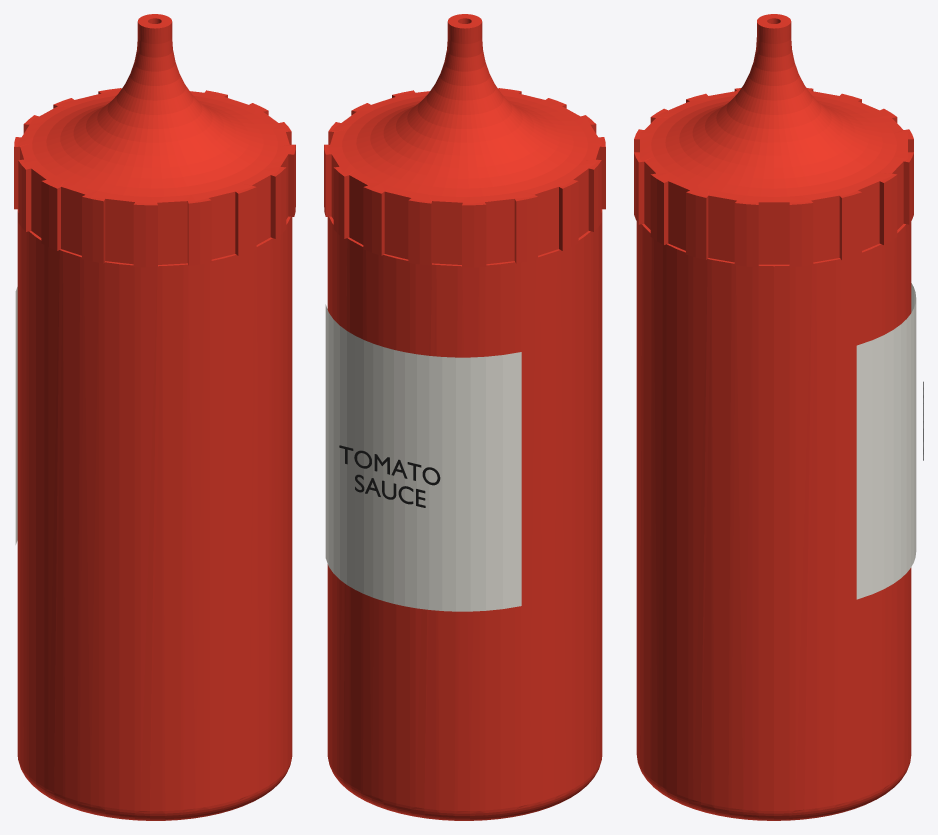
The model's file is TomatoSauceBottle.dae.
3 views of the same model, side by side, from view 1: azimuth 30°, elevation 25°; view 2: azimuth 150°, elevation 25°; view 3: azimuth 270°, elevation 25° (orthographic).
Visible parts, largest first — view 1: TomatoSauceBottle, TomatoSauceBottle_label_panel; view 2: TomatoSauceBottle, TomatoSauceBottle_label_panel, TomatoSauceBottle_label_text; view 3: TomatoSauceBottle, TomatoSauceBottle_label_panel.
Part boxes in pixels (x1,y1,x2,y2): TomatoSauceBottle: [14, 14, 295, 820]; TomatoSauceBottle_label_panel: [15, 287, 17, 544]; TomatoSauceBottle: [324, 14, 605, 820]; TomatoSauceBottle_label_panel: [325, 304, 521, 611]; TomatoSauceBottle_label_text: [339, 445, 440, 507]; TomatoSauceBottle: [634, 14, 913, 820]; TomatoSauceBottle_label_panel: [856, 283, 916, 599].
Size of the model in its own units: 0.0815 by 0.0844 by 0.24.
